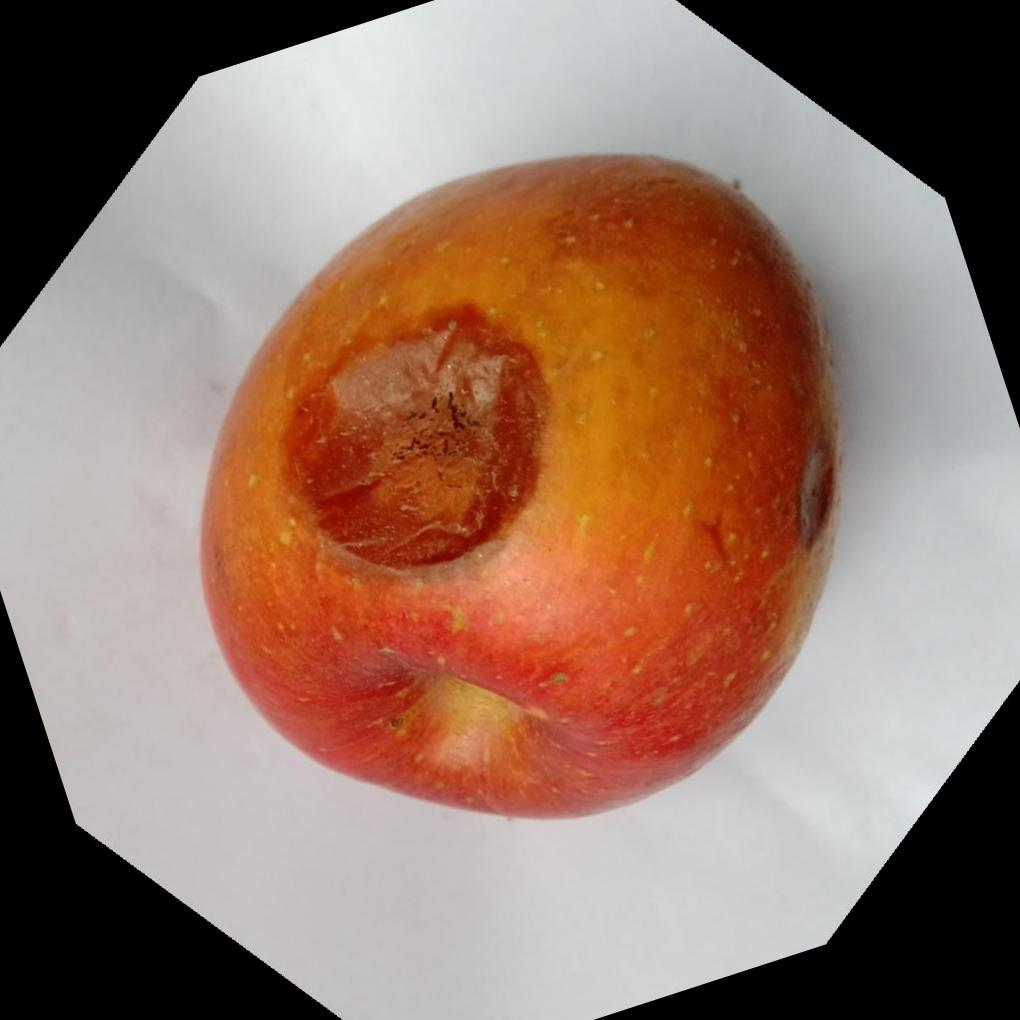FreshOrange: (199, 148, 842, 819)
